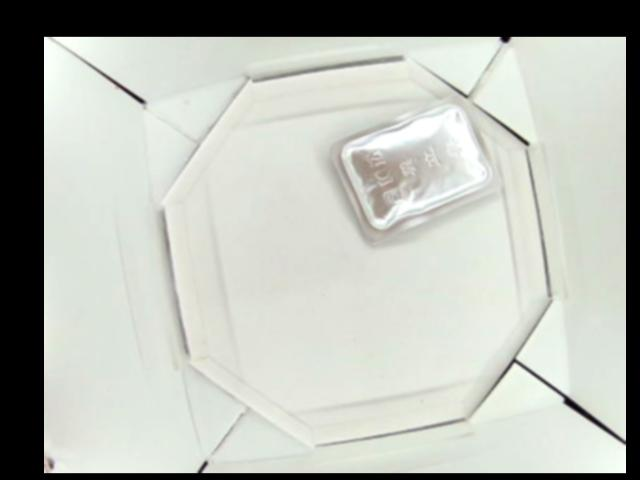Medicine: (324, 93, 502, 246)
